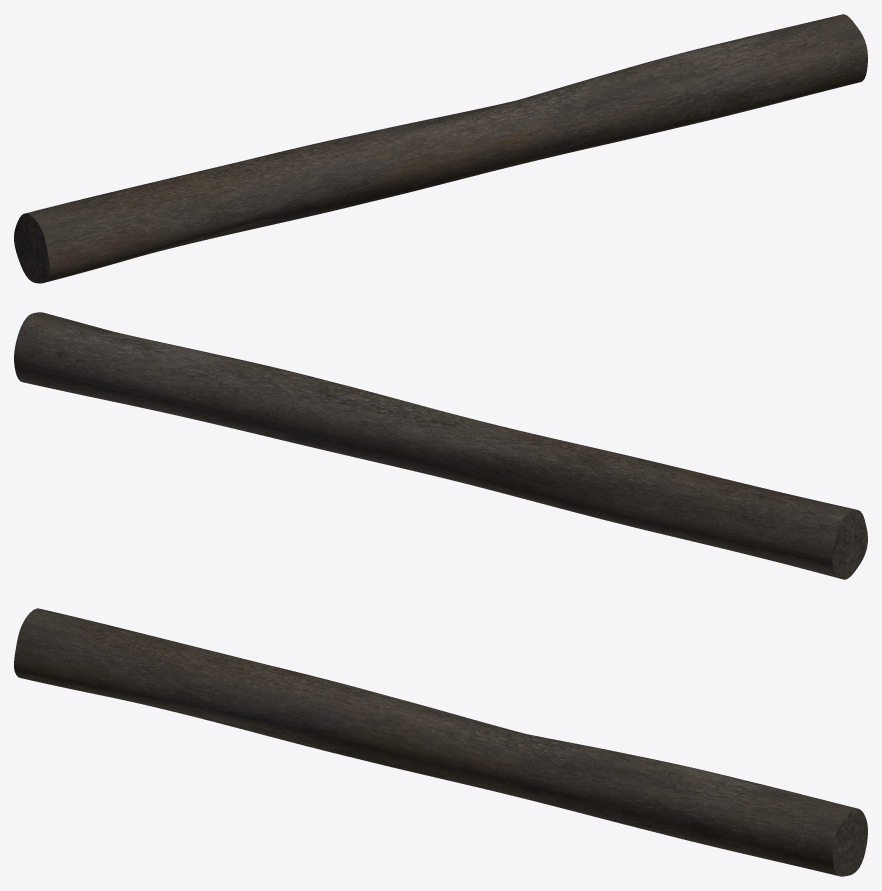
File: log_long.glb
The picture shows the model from 3 angles, top to bottom: view 1: azimuth 30°, elevation 25°; view 2: azimuth 150°, elevation 25°; view 3: azimuth 330°, elevation 25°; orthographic projection.
Parts seen in each view (by area): view 1: log_long; view 2: log_long; view 3: log_long.
Boxes of the visible parts, <box> form: log_long: <box>14,14,867,283</box>; log_long: <box>14,312,867,579</box>; log_long: <box>14,608,867,876</box>.
Bounding box in the file's own units: 6 × 0.4666 × 0.4676.
Materials: 1 (1 with a texture image).
